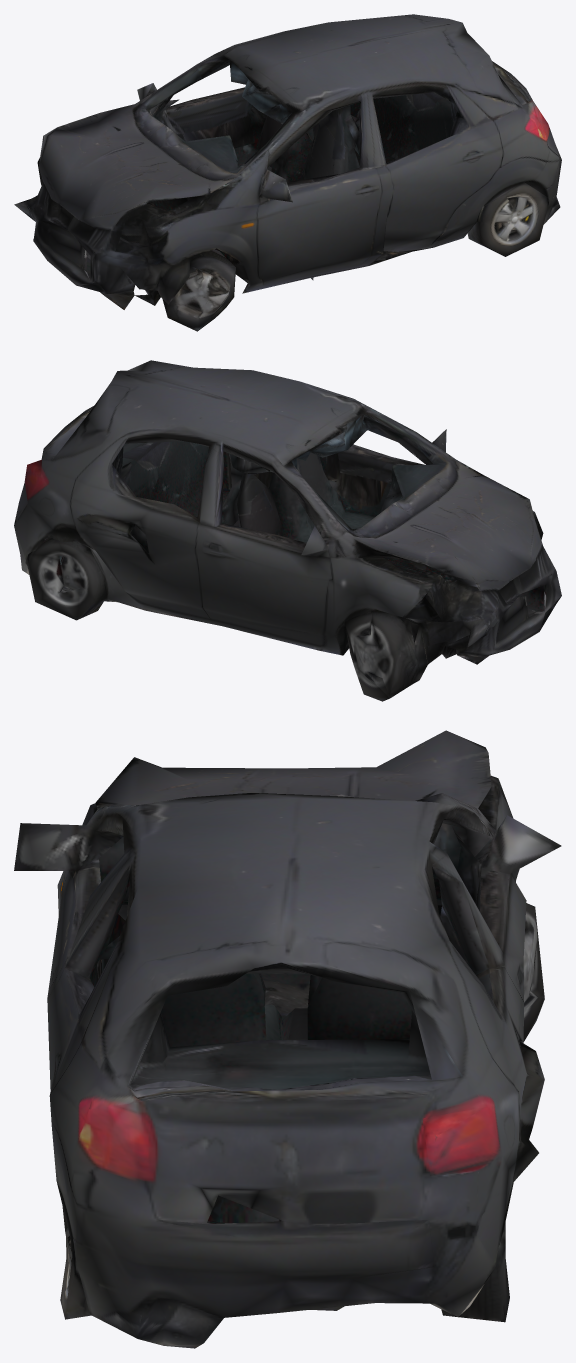
The model's file is A_black_broken_car_1121020720_texture.fbx.
3 renders of one model, top to bottom at view 1: azimuth 30°, elevation 25°; view 2: azimuth 150°, elevation 25°; view 3: azimuth 270°, elevation 25°, orthographic. The views are drawn at different scales.
Visible parts, largest first — view 1: Mesh1.0; view 2: Mesh1.0; view 3: Mesh1.0.
Part boxes in pixels (bbox=[...]): Mesh1.0: bbox=[14, 14, 561, 331]; Mesh1.0: bbox=[14, 360, 561, 701]; Mesh1.0: bbox=[14, 730, 561, 1348].
Size of the model in its own units: 199 by 80.16 by 109.
1 material, 1 textured.
